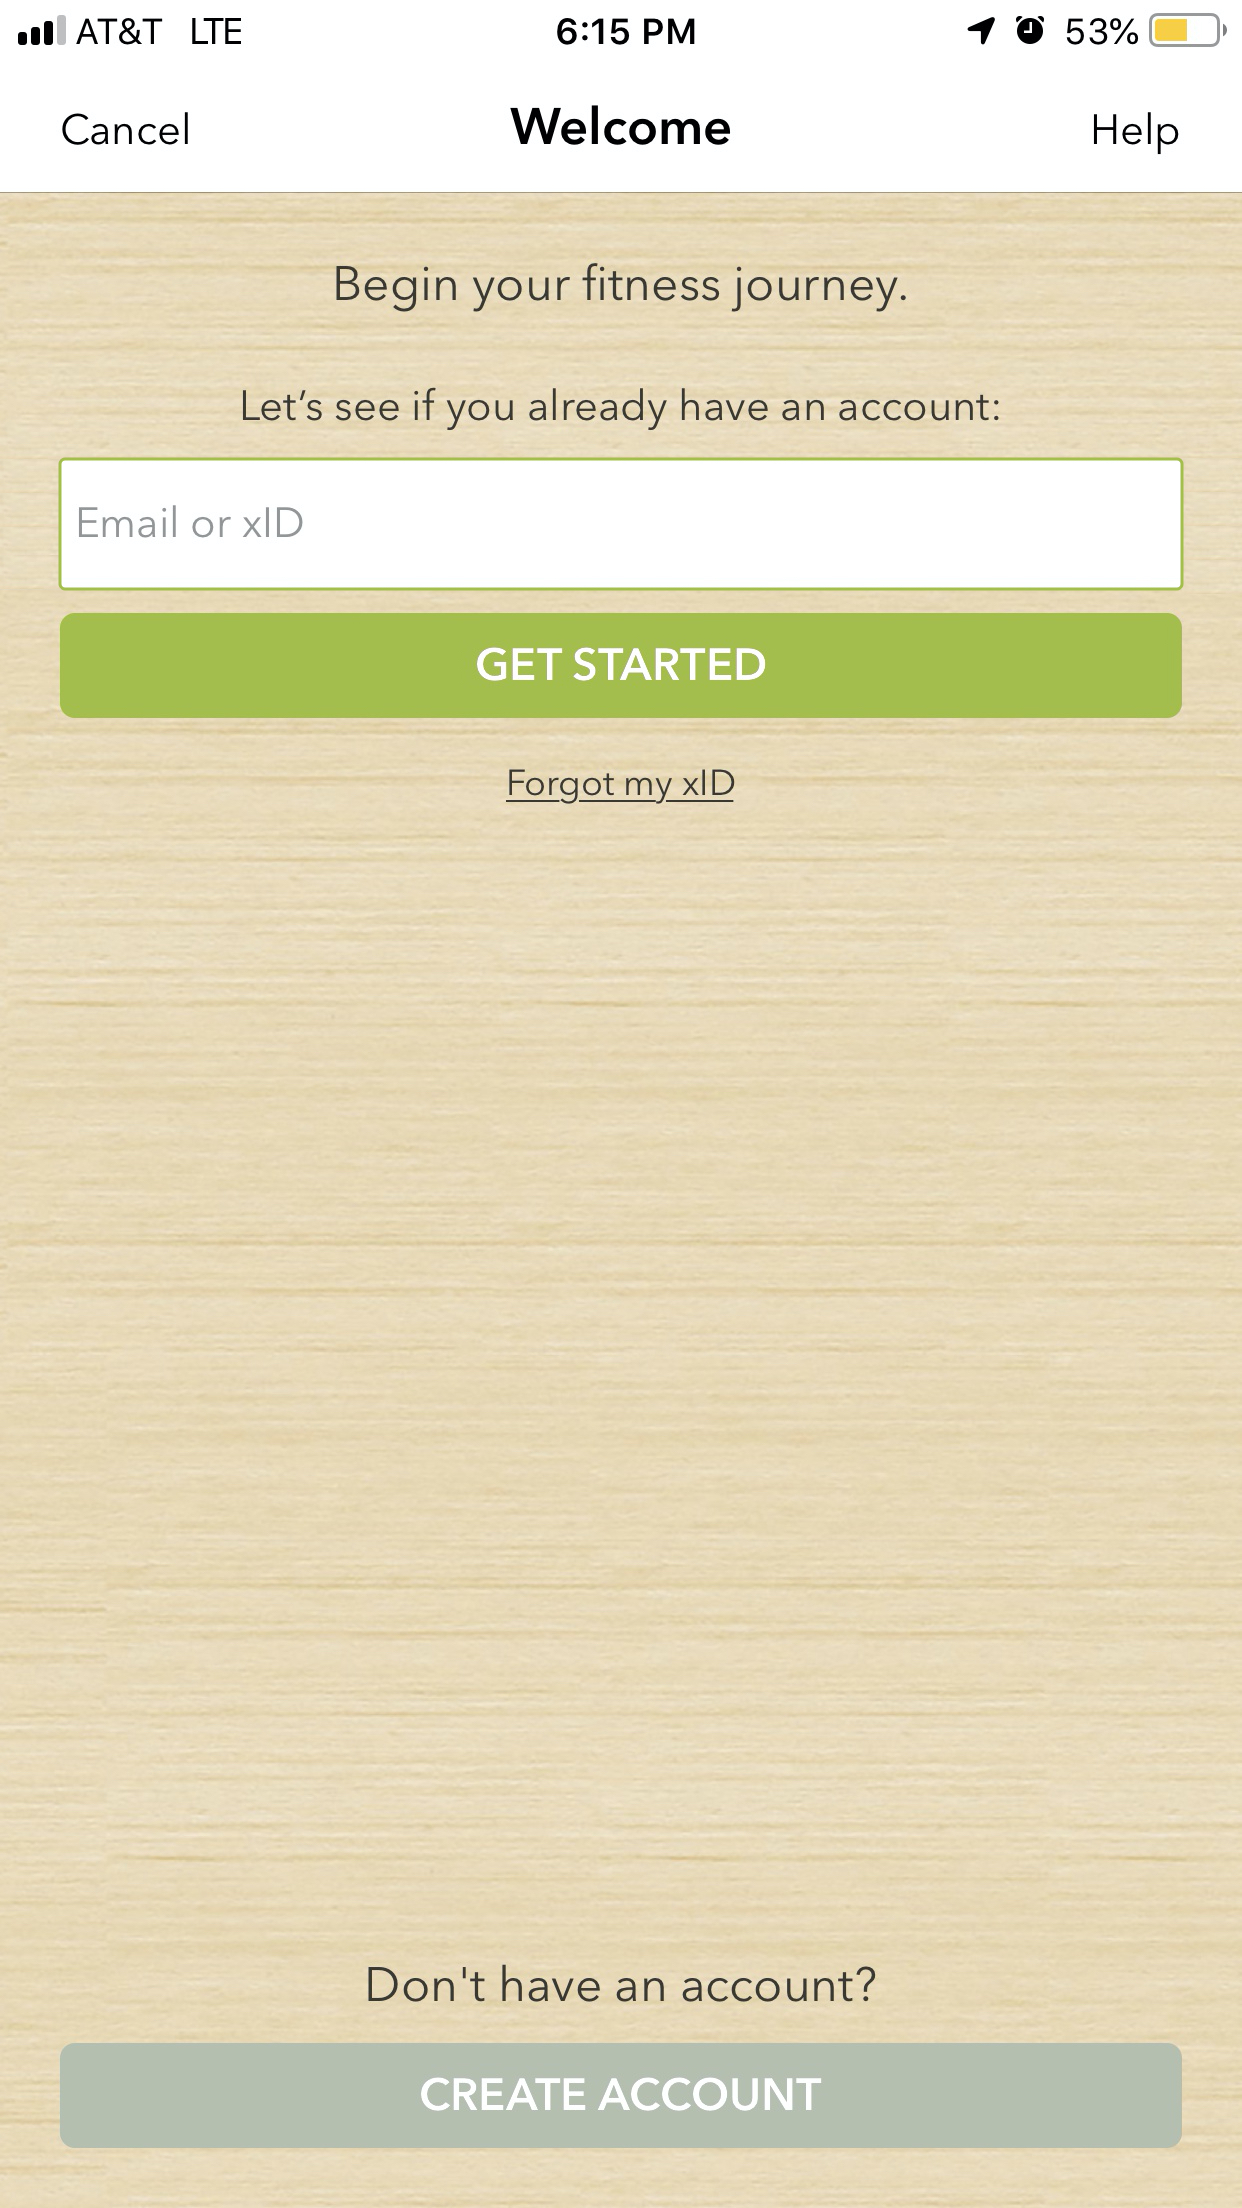EditText: (59, 458, 1184, 591)
Text: (243, 387, 999, 432), (335, 262, 907, 314), (369, 1964, 877, 2003), (510, 105, 731, 146), (507, 769, 735, 805), (79, 505, 303, 538), (62, 114, 190, 147), (1093, 112, 1178, 156)
TextButton: (61, 613, 1183, 719), (61, 2043, 1183, 2147)
UpperTaskBar: (2, 2, 1242, 49)
